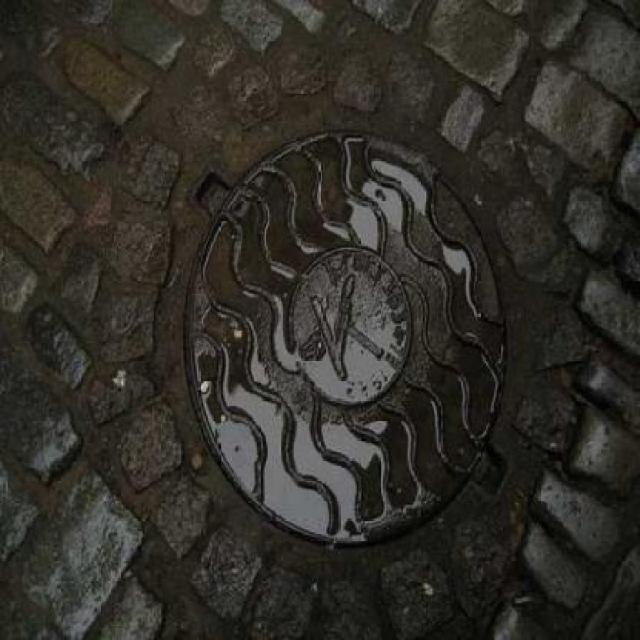Manhole: (130, 118, 536, 556)
